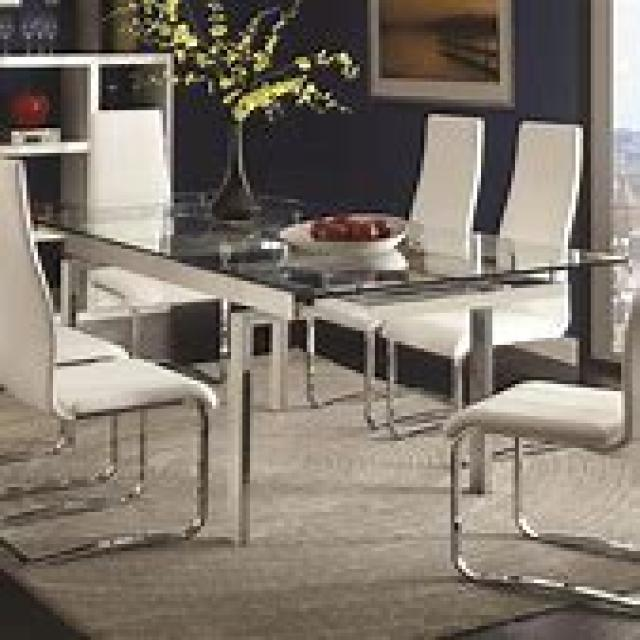chair: (0, 153, 216, 562), (443, 221, 636, 618), (379, 117, 583, 448), (299, 110, 485, 427)
table: (30, 196, 625, 544)
